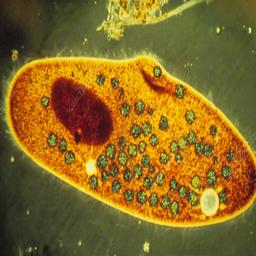Paramecium: (8, 55, 253, 230)
